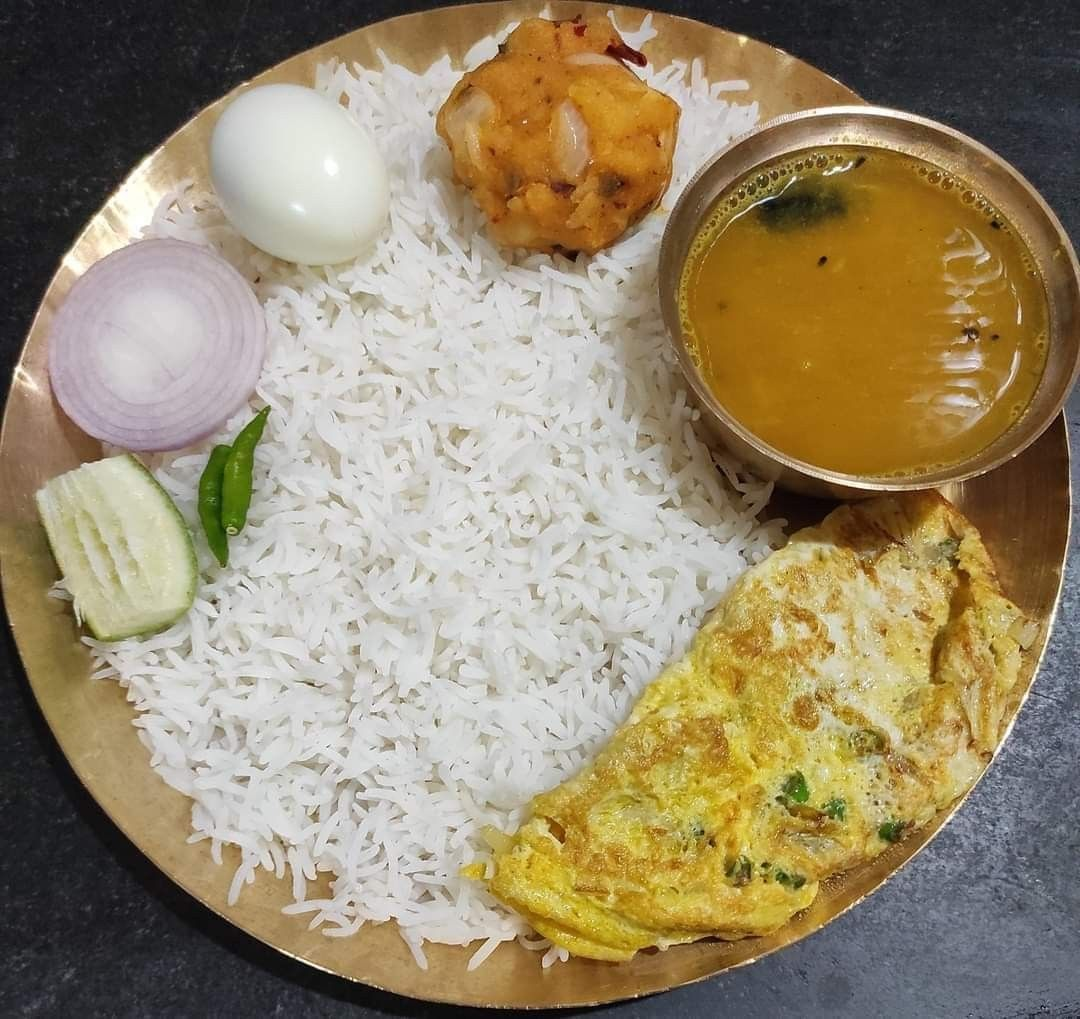bhat: (108, 61, 776, 939)
dal: (703, 137, 1027, 487)
sabji: (458, 61, 671, 234)
